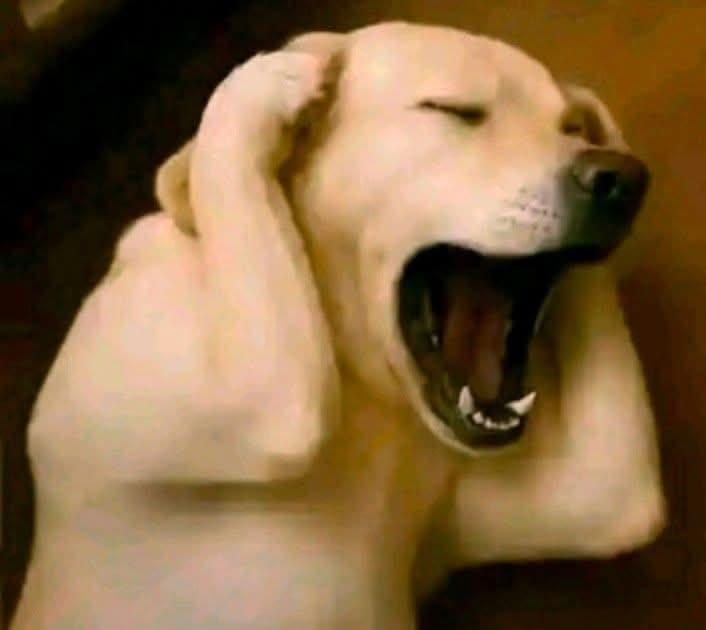adult_dog: (12, 18, 669, 630)
